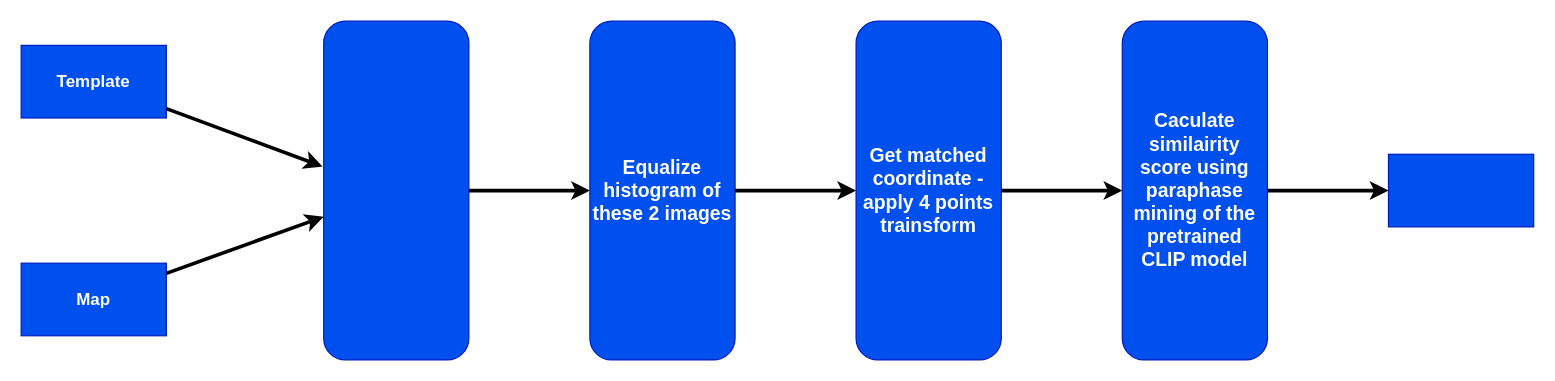
Image size: 1555x381. Some labels were removed from this diagram. Each missing label, with the centre of its shape:
Convert to gray scale: [395,190]
Similarity score between 2 images: [1460,190]
